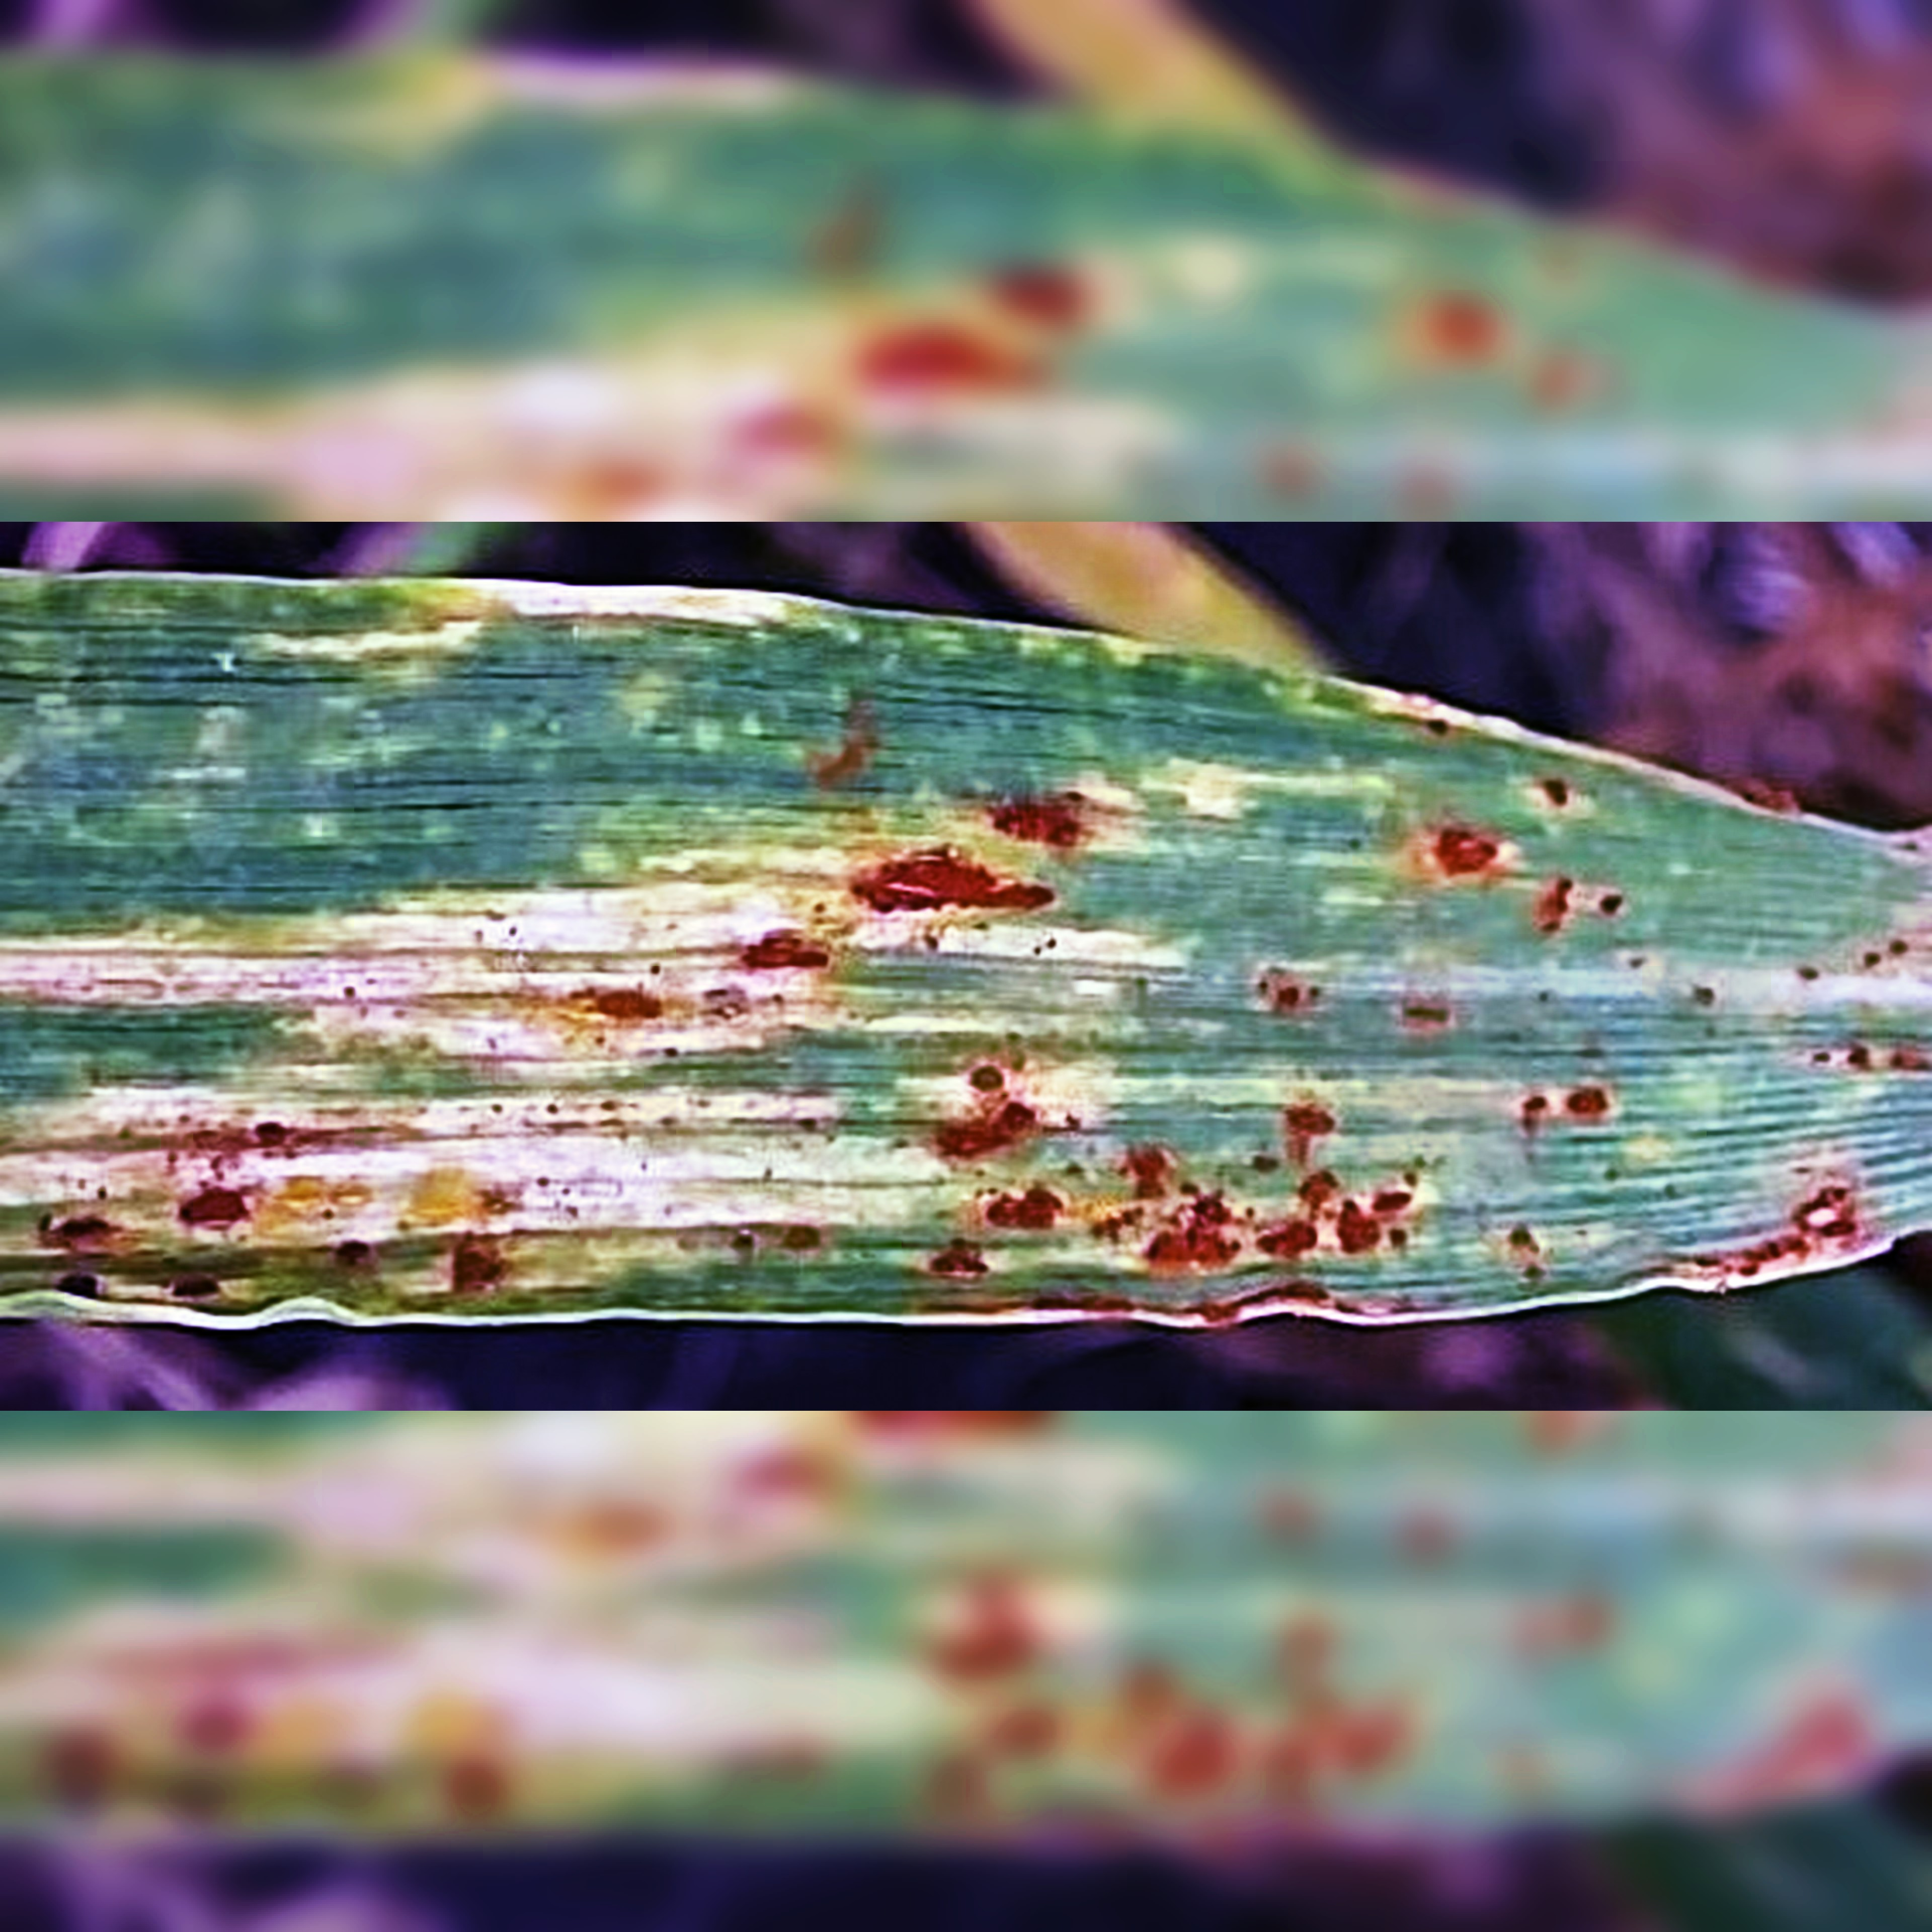Leaf Rust: (396, 605, 1842, 1332)
